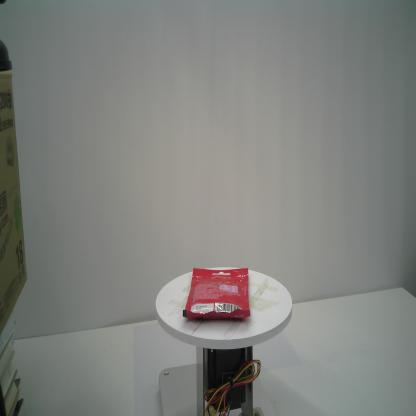Candy: (183, 265, 252, 323)
